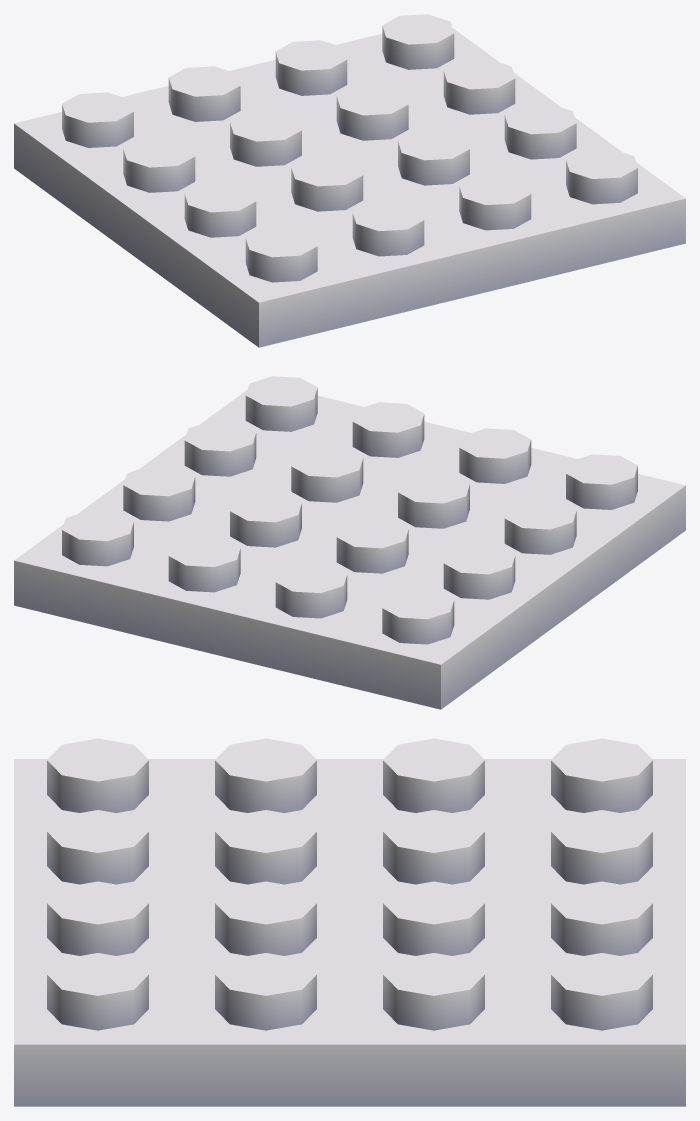
The model's file is kenney-brick-round-lq-plate-4-x-4.glb.
3 views of the same model, one above another, from view 1: azimuth 30°, elevation 25°; view 2: azimuth 150°, elevation 25°; view 3: azimuth 270°, elevation 25° (orthographic). The views are drawn at different scales.
Parts seen in each view (by area): view 1: round-lq-plate-4x4; view 2: round-lq-plate-4x4; view 3: round-lq-plate-4x4.
Part boxes in pixels (x1,y1,x2,y2): round-lq-plate-4x4: [14, 14, 685, 347]; round-lq-plate-4x4: [14, 376, 685, 709]; round-lq-plate-4x4: [14, 738, 685, 1106].
Bounding box in the file's own units: 0.318 × 0.05 × 0.316.
1 material, 1 textured.
